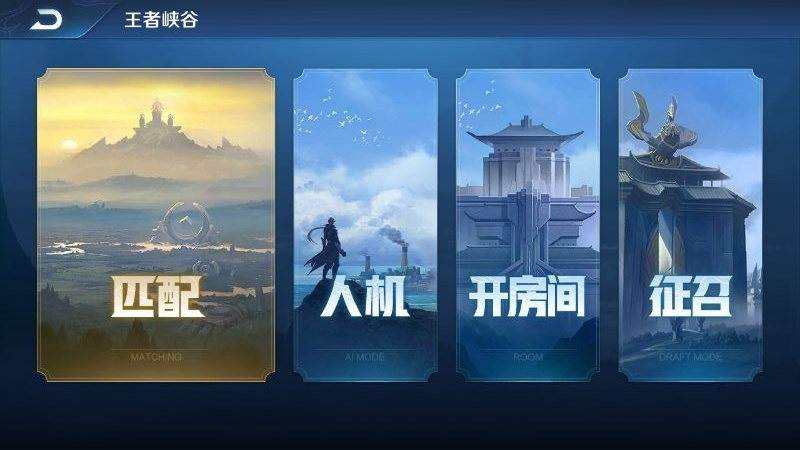obj_2496122228184: (53, 90, 260, 268)
return: (19, 2, 77, 34)
